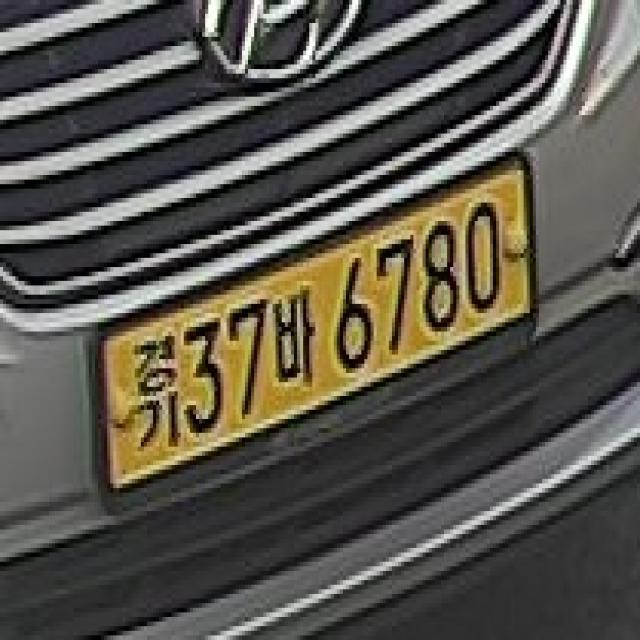plat: (97, 150, 537, 490)
